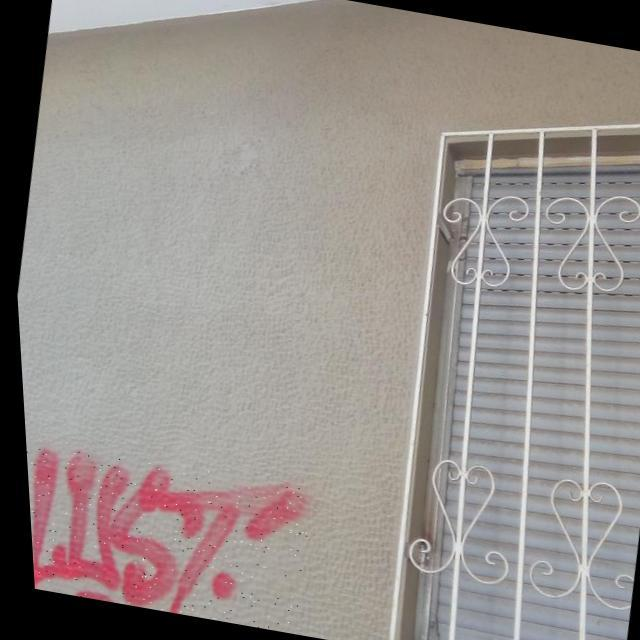-: (20, 438, 312, 633)
